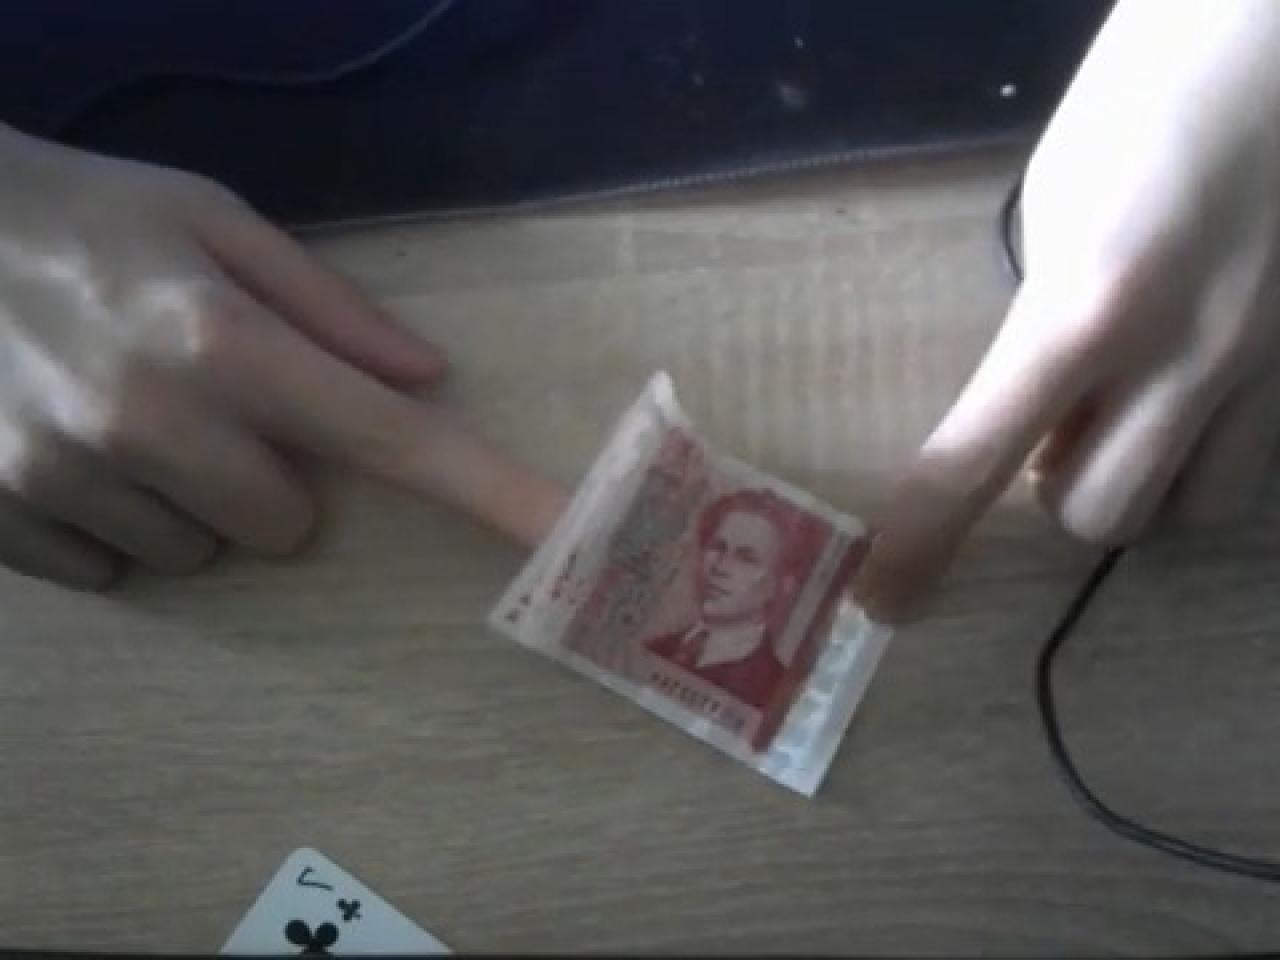5leva: (493, 389, 872, 792)
